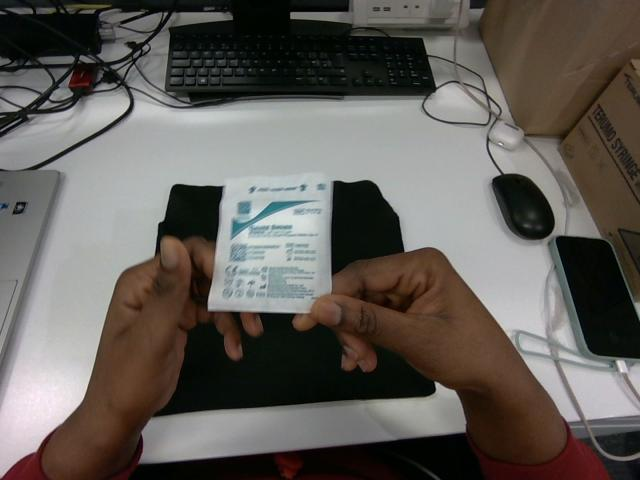gauze: (208, 173, 332, 312)
